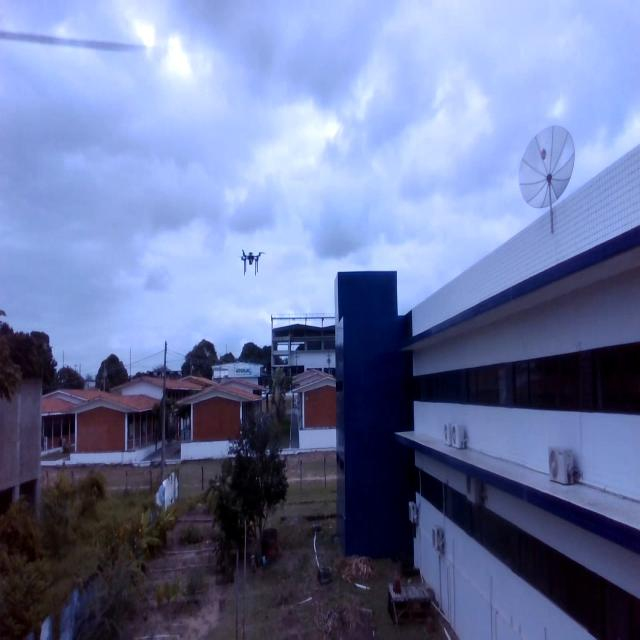-uav-: (236, 242, 266, 278)
